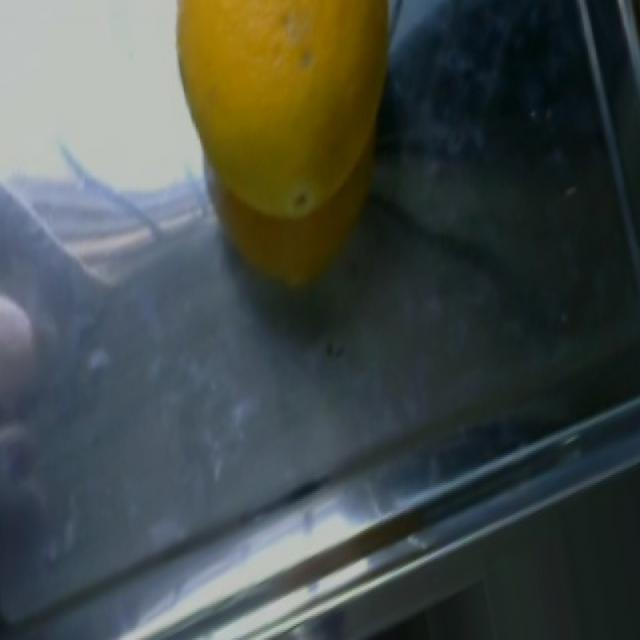Fruit: (154, 0, 414, 288)
